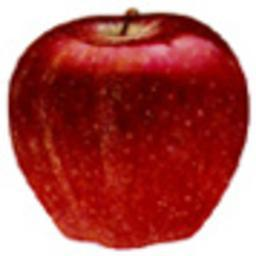apple: (9, 12, 248, 248)
